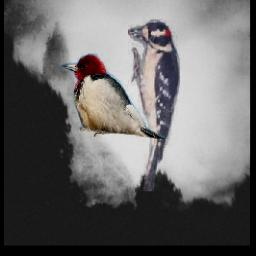Woodpecker: (129, 16, 182, 191), (61, 54, 165, 140)
